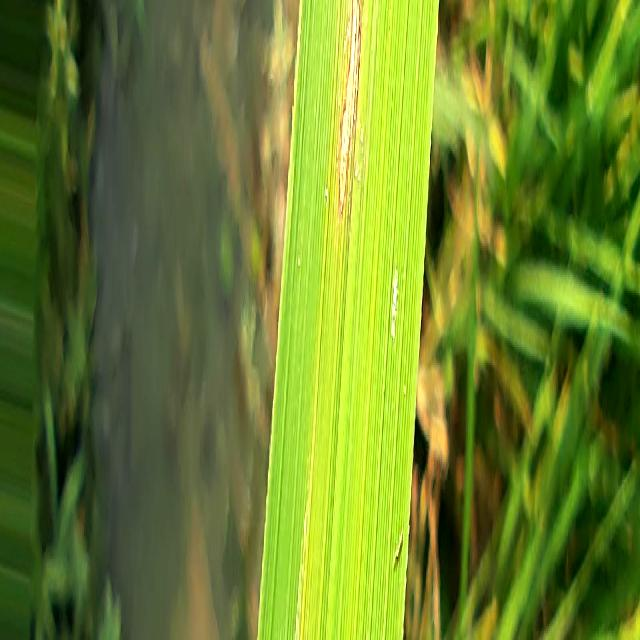LEAF BLAST: (338, 0, 361, 216)
